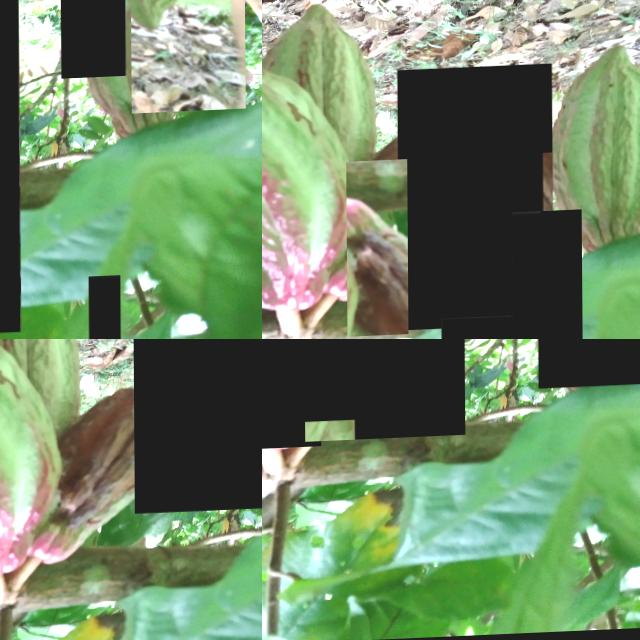Fitoftora: (303, 339, 464, 444)
Monilia: (397, 68, 553, 333)
Sana: (133, 339, 262, 517), (129, 0, 245, 118), (345, 161, 407, 339), (511, 214, 581, 339), (536, 339, 640, 392), (60, 0, 125, 82), (88, 279, 119, 339)
